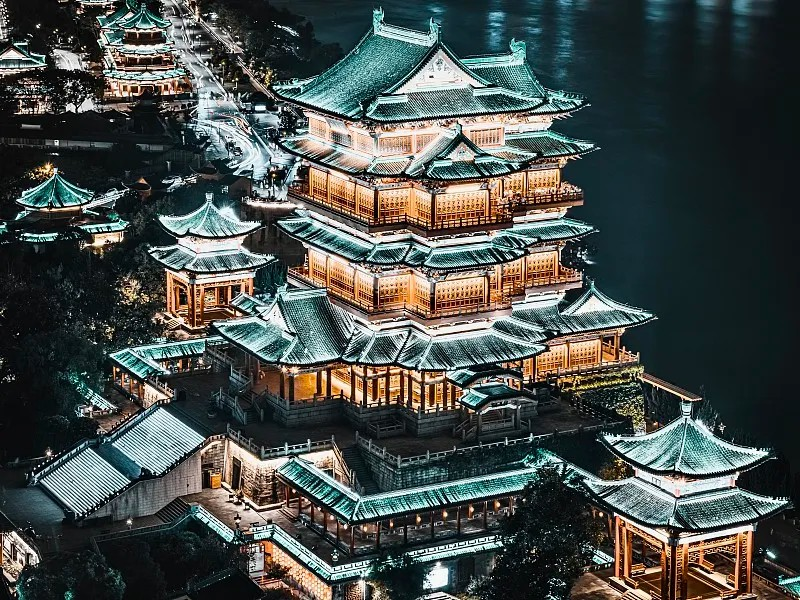Teng: (205, 7, 659, 413)
